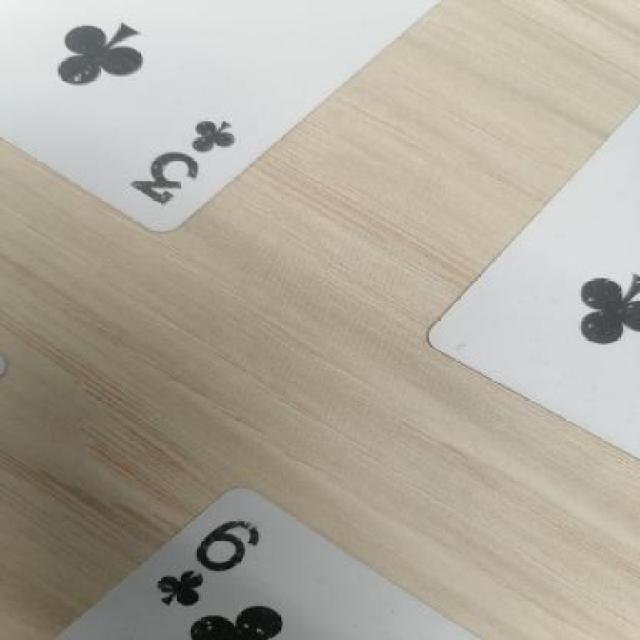3C: (114, 103, 254, 220)
6C: (145, 494, 278, 631)
